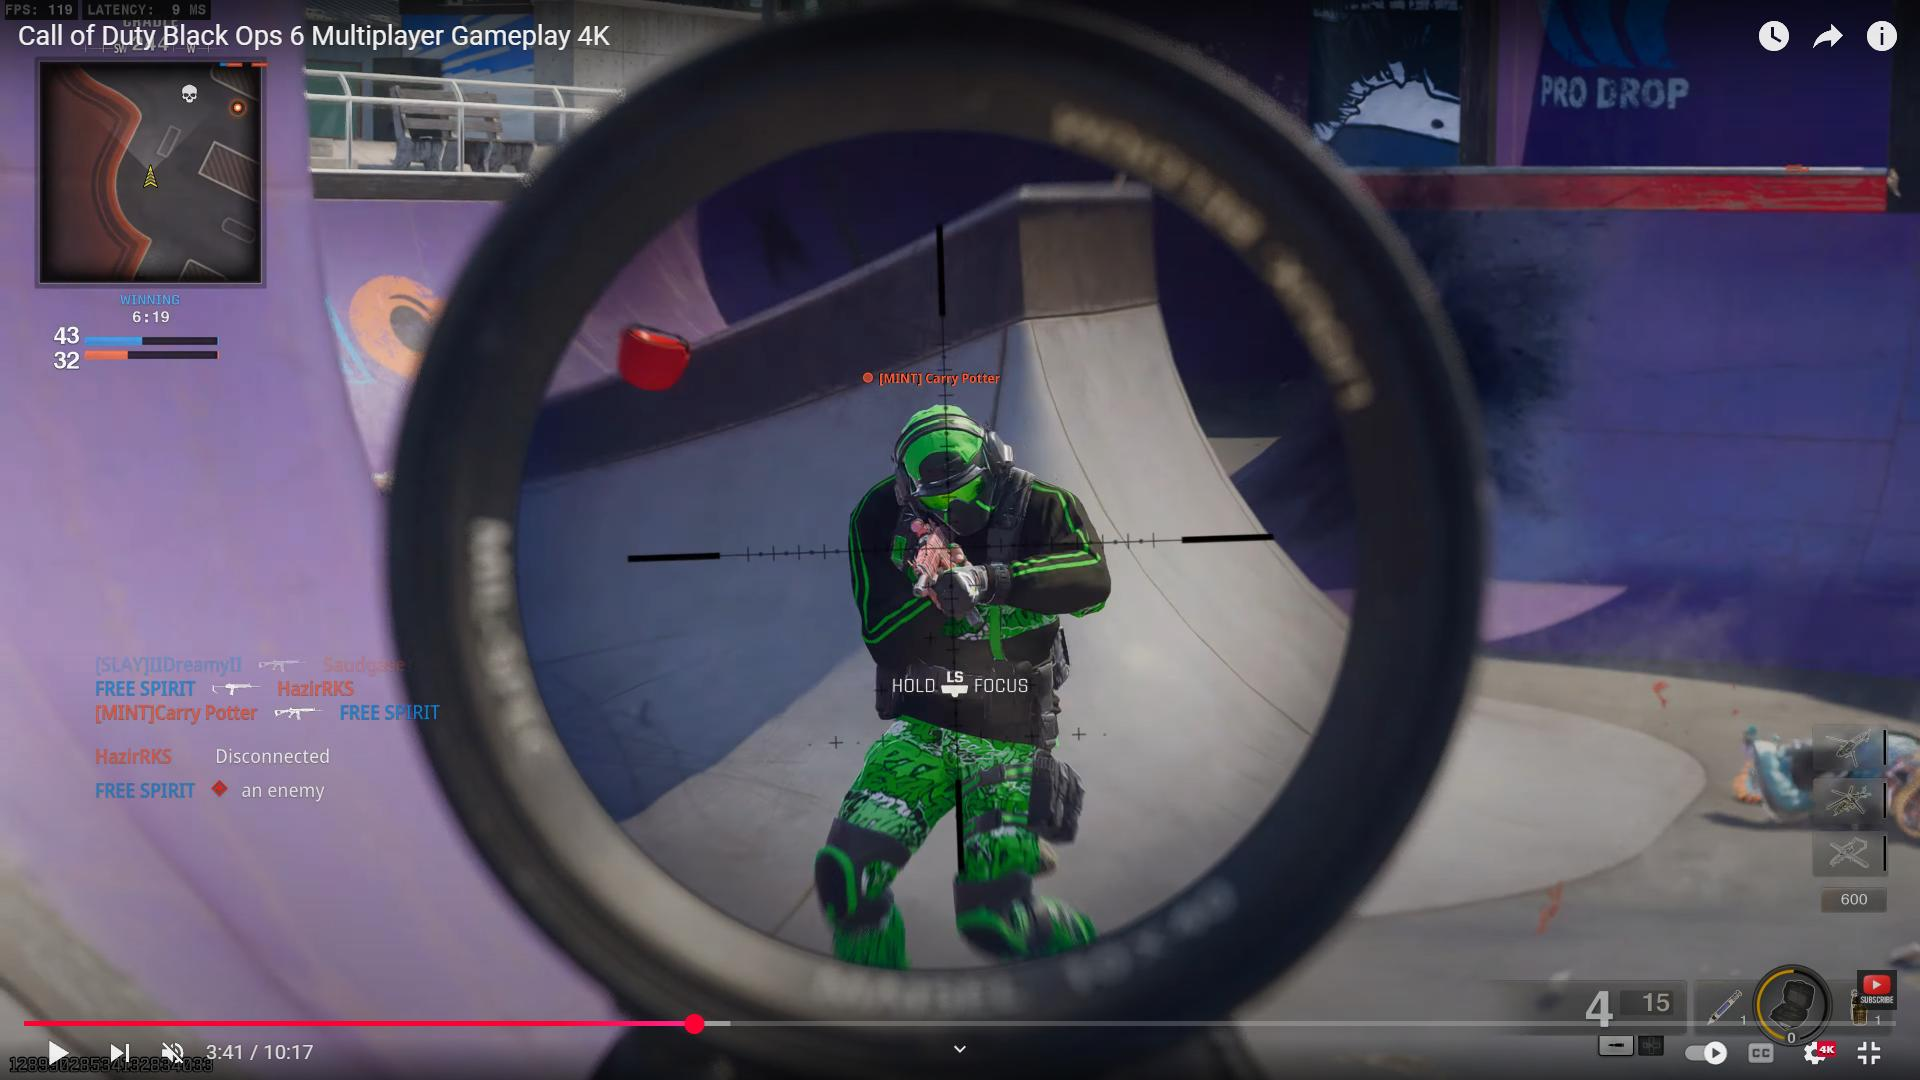Enemy: (833, 401, 1096, 945)
